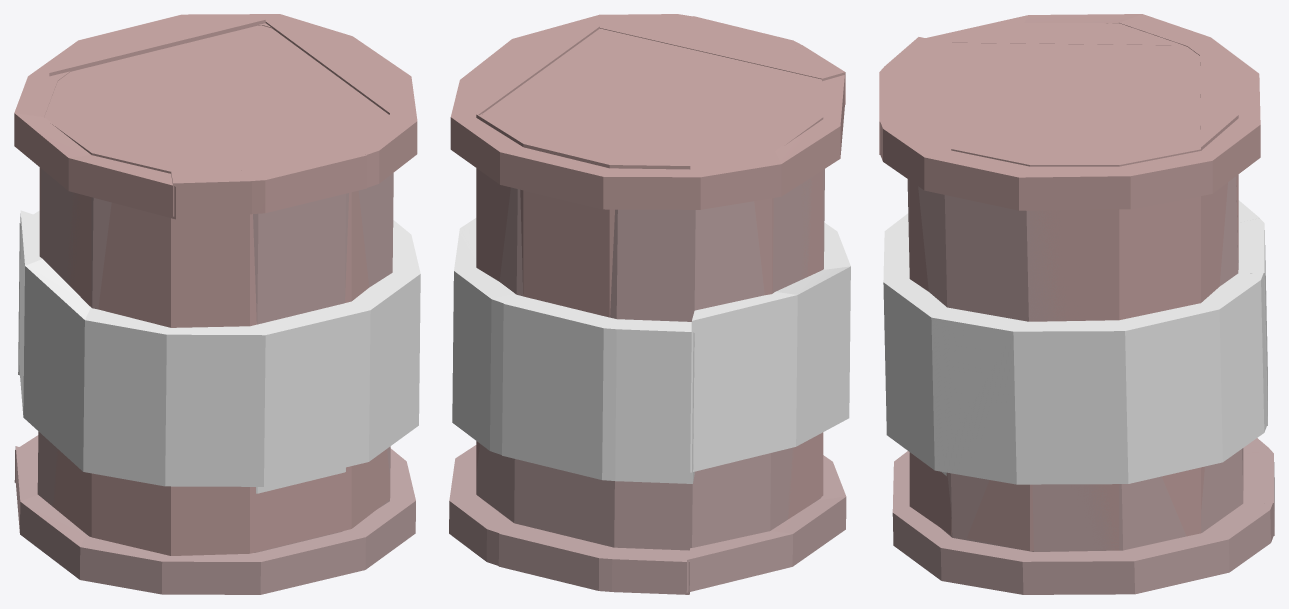
The model's file is barril.gltf.
3 views of the same model, side by side, from view 1: azimuth 30°, elevation 25°; view 2: azimuth 150°, elevation 25°; view 3: azimuth 270°, elevation 25° (orthographic).
Visible parts, largest first — view 1: Cubo (×3); view 2: Cubo (×3); view 3: Cubo (×3).
Boxes of the visible parts, x1=… form: Cubo (×3): x1=14, y1=14, x2=420, y2=594; Cubo (×3): x1=449, y1=14, x2=850, y2=594; Cubo (×3): x1=879, y1=14, x2=1274, y2=594.
Bounding box in the file's own units: 1.31 × 1.58 × 1.32.
